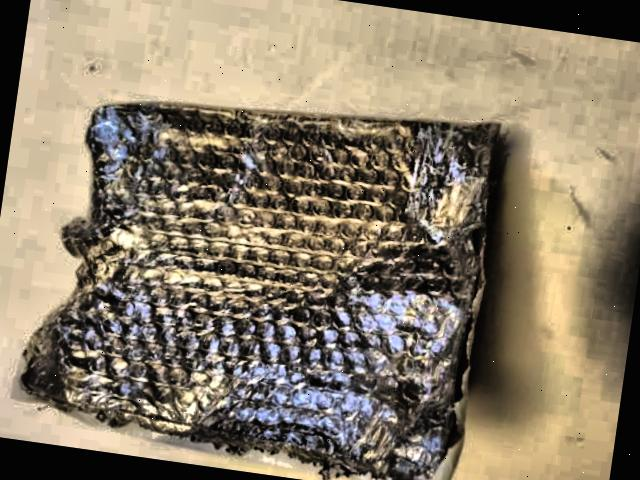Plastic: (3, 63, 532, 480)
